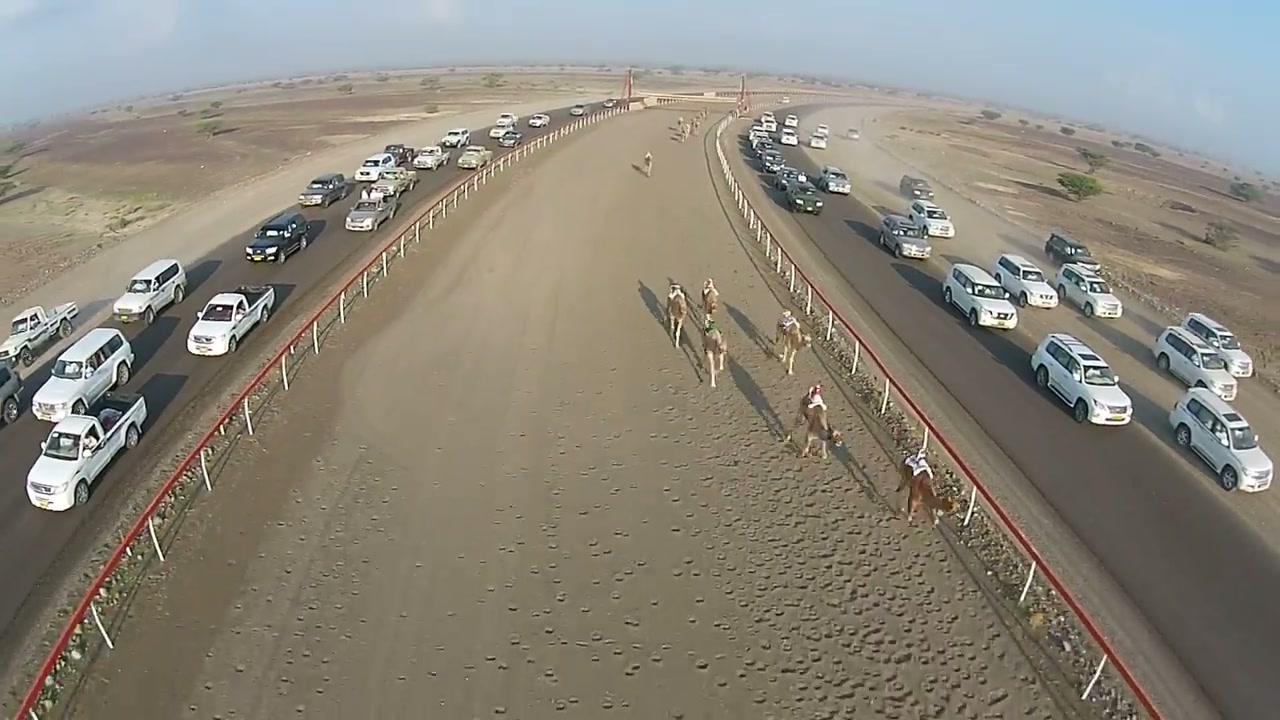animal_foot_print: (700, 398, 1035, 719)
